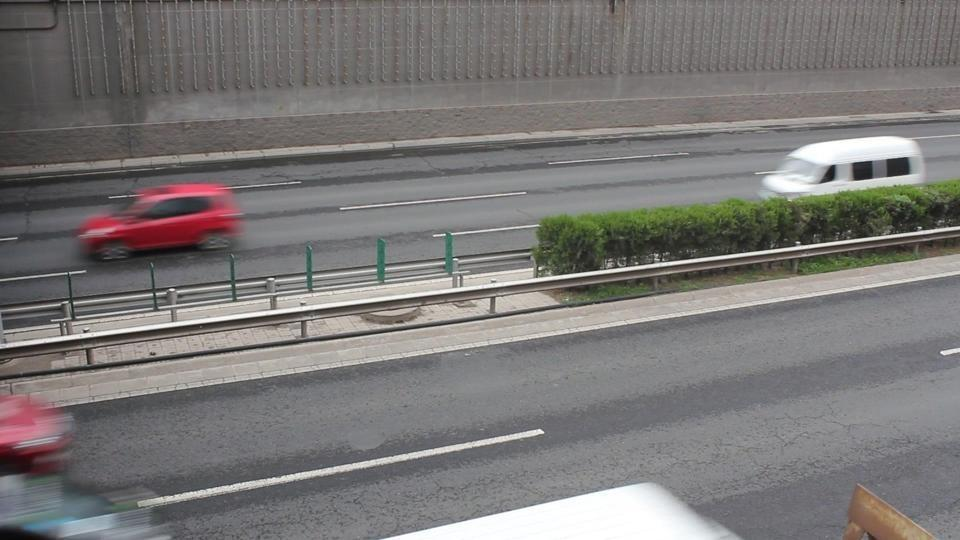car: (73, 181, 247, 261), (758, 131, 953, 198), (0, 394, 77, 476)
